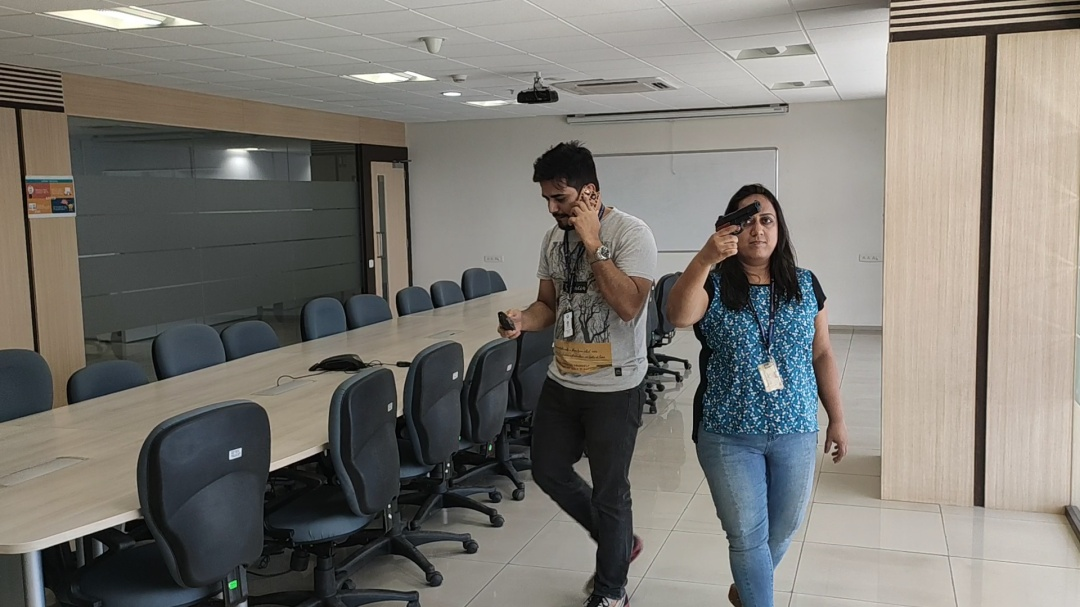gun: (715, 200, 763, 236)
